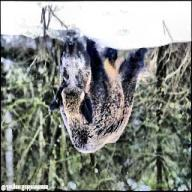boar: (48, 32, 147, 154)
